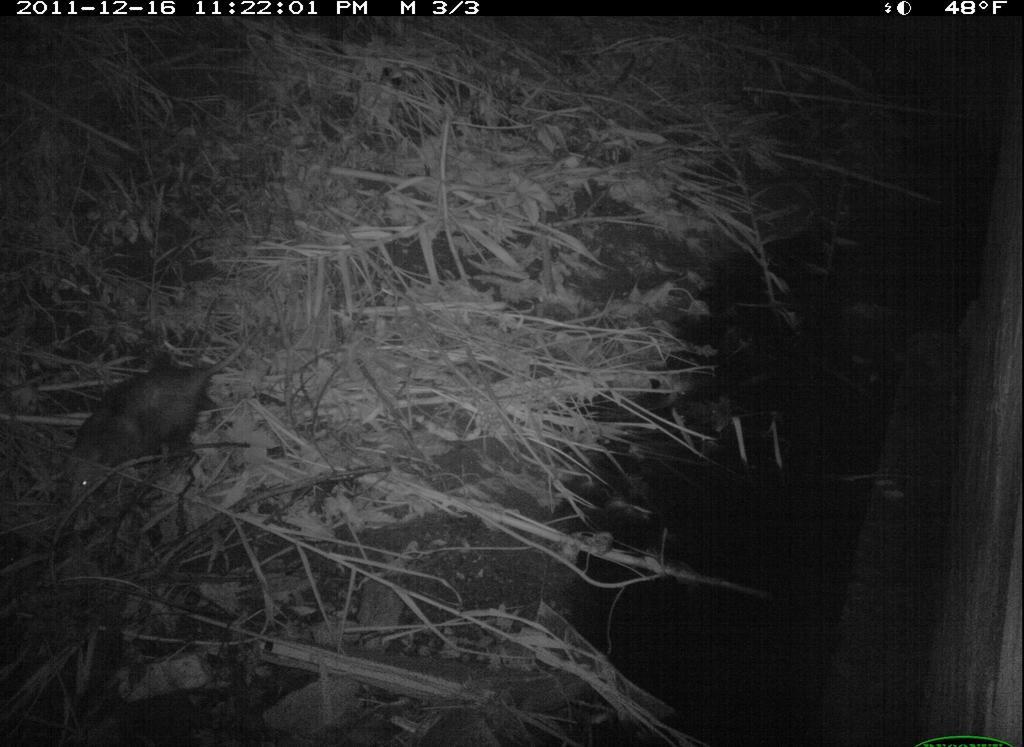opossum: (63, 328, 264, 503)
